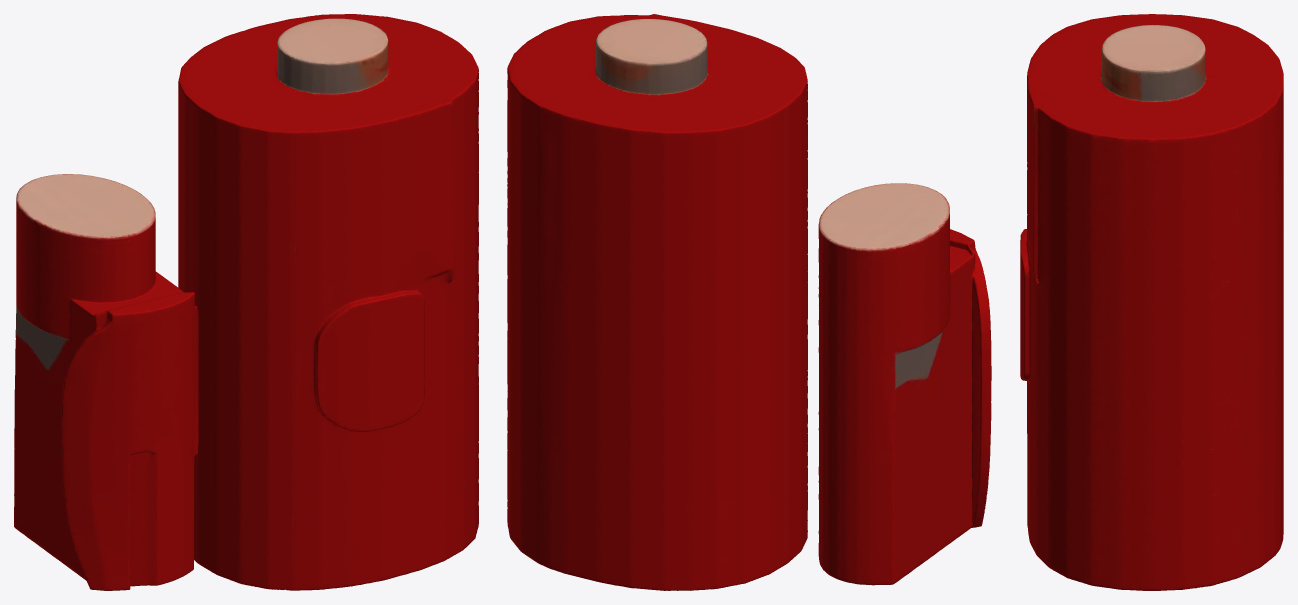
The model's file is caneca_trellis.glb.
3 views of the same model, side by side, from view 1: azimuth 30°, elevation 25°; view 2: azimuth 150°, elevation 25°; view 3: azimuth 270°, elevation 25° (orthographic).
Parts seen in each view (by area): view 1: world; view 2: world; view 3: world.
Part boxes in pixels (bbox=[...]): world: bbox=[14, 14, 478, 590]; world: bbox=[507, 14, 991, 590]; world: bbox=[1020, 14, 1283, 590].
Size of the model in its own units: 0.8812 by 1 by 0.4734.
1 material, 1 textured.
